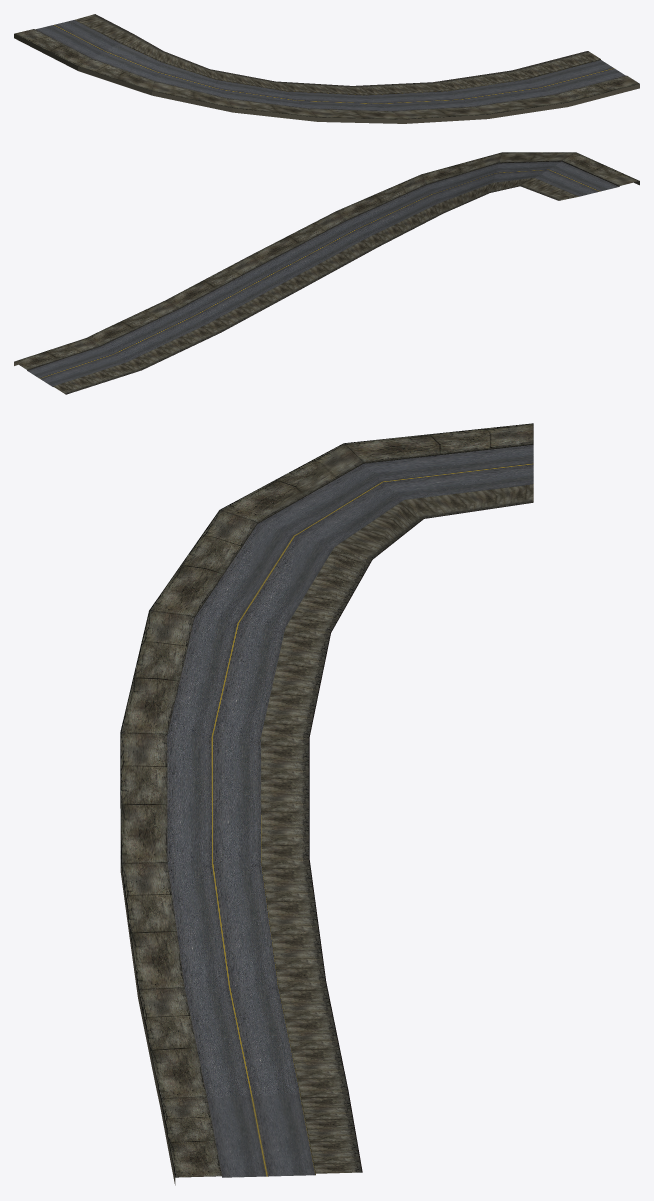
File: lae2_roads64.obj
The picture shows the model from 3 angles, top to bottom: view 1: azimuth 30°, elevation 25°; view 2: azimuth 210°, elevation 25°; view 3: azimuth 270°, elevation 25°; orthographic projection. The views are drawn at different scales.
Parts seen in each view (by area): view 1: Lae2_roads64; view 2: Lae2_roads64; view 3: Lae2_roads64.
Part boxes in pixels (x1,y1,x2,y2): Lae2_roads64: (14, 14, 639, 123); Lae2_roads64: (14, 152, 639, 394); Lae2_roads64: (120, 423, 533, 1185).
Bounding box in the file's own units: 132 × 28.21 × 44.09.
